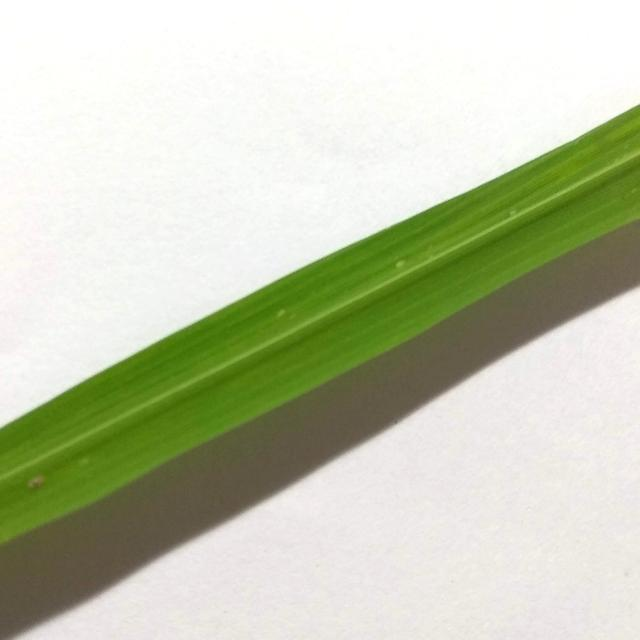Rice_Healthy: (0, 106, 640, 544)
